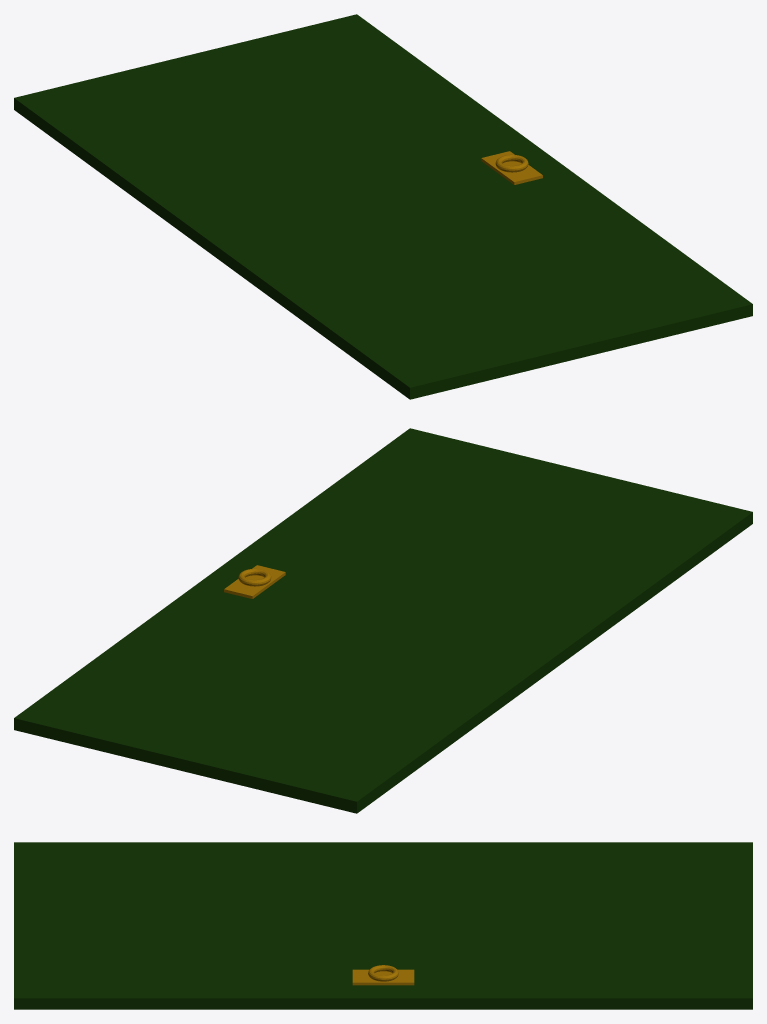
File: Dore1.fbx
The picture shows the model from 3 angles, top to bottom: view 1: azimuth 30°, elevation 25°; view 2: azimuth 150°, elevation 25°; view 3: azimuth 270°, elevation 25°; orthographic projection. The views are drawn at different scales.
Visible parts, largest first — view 1: Plane, Plane.001; view 2: Plane, Plane.001; view 3: Plane, Plane.001, Torus.
Part boxes in pixels (x1,y1,x2,y2): Plane: [14, 14, 752, 399]; Plane.001: [481, 151, 542, 184]; Plane: [14, 428, 752, 813]; Plane.001: [224, 565, 285, 598]; Plane: [14, 842, 752, 1009]; Plane.001: [352, 969, 414, 985]; Torus: [368, 965, 398, 981].
Size of the model in its own units: 600 by 35 by 1200.
